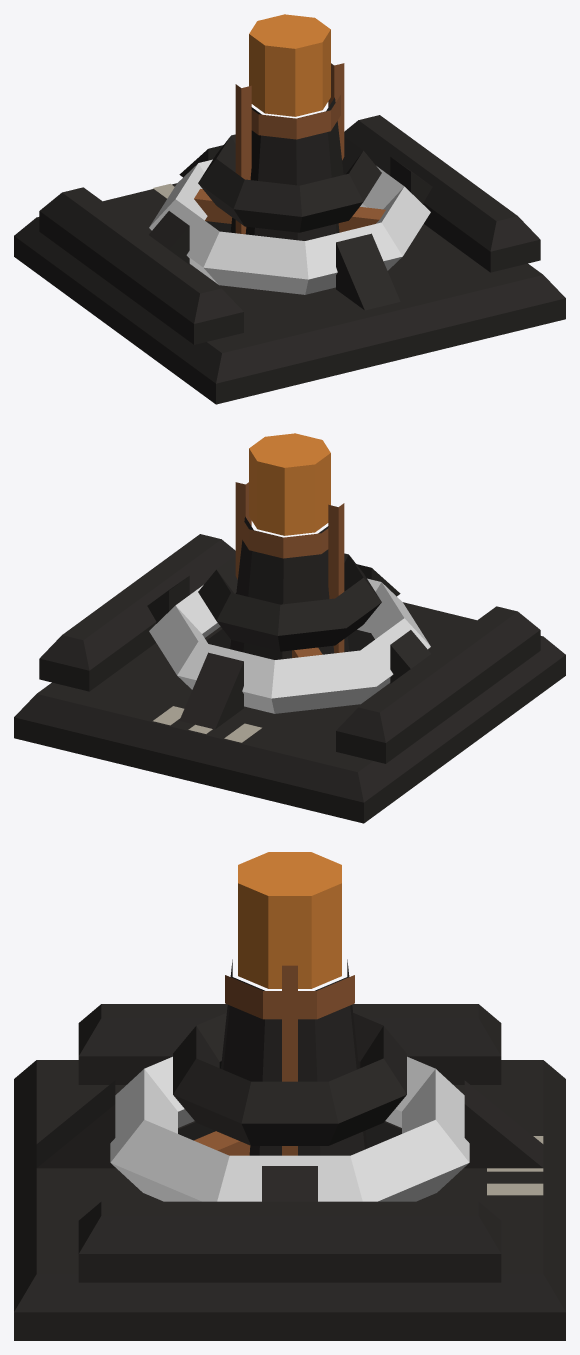
File: str_t3_mex.d6d133cd.raw.glb
3 renders of one model, top to bottom at view 1: azimuth 30°, elevation 25°; view 2: azimuth 150°, elevation 25°; view 3: azimuth 270°, elevation 25°, orthographic. The views are drawn at different scales.
Parts seen in each view (by area): view 1: lod0; view 2: lod0; view 3: lod0.
Boxes of the visible parts, x1,y1,x2,y2 form: lod0: [14, 14, 565, 404]; lod0: [14, 433, 565, 823]; lod0: [14, 852, 565, 1340].
Size of what is drawn, in the model's own units: 1.96 by 1.37 by 1.96.
